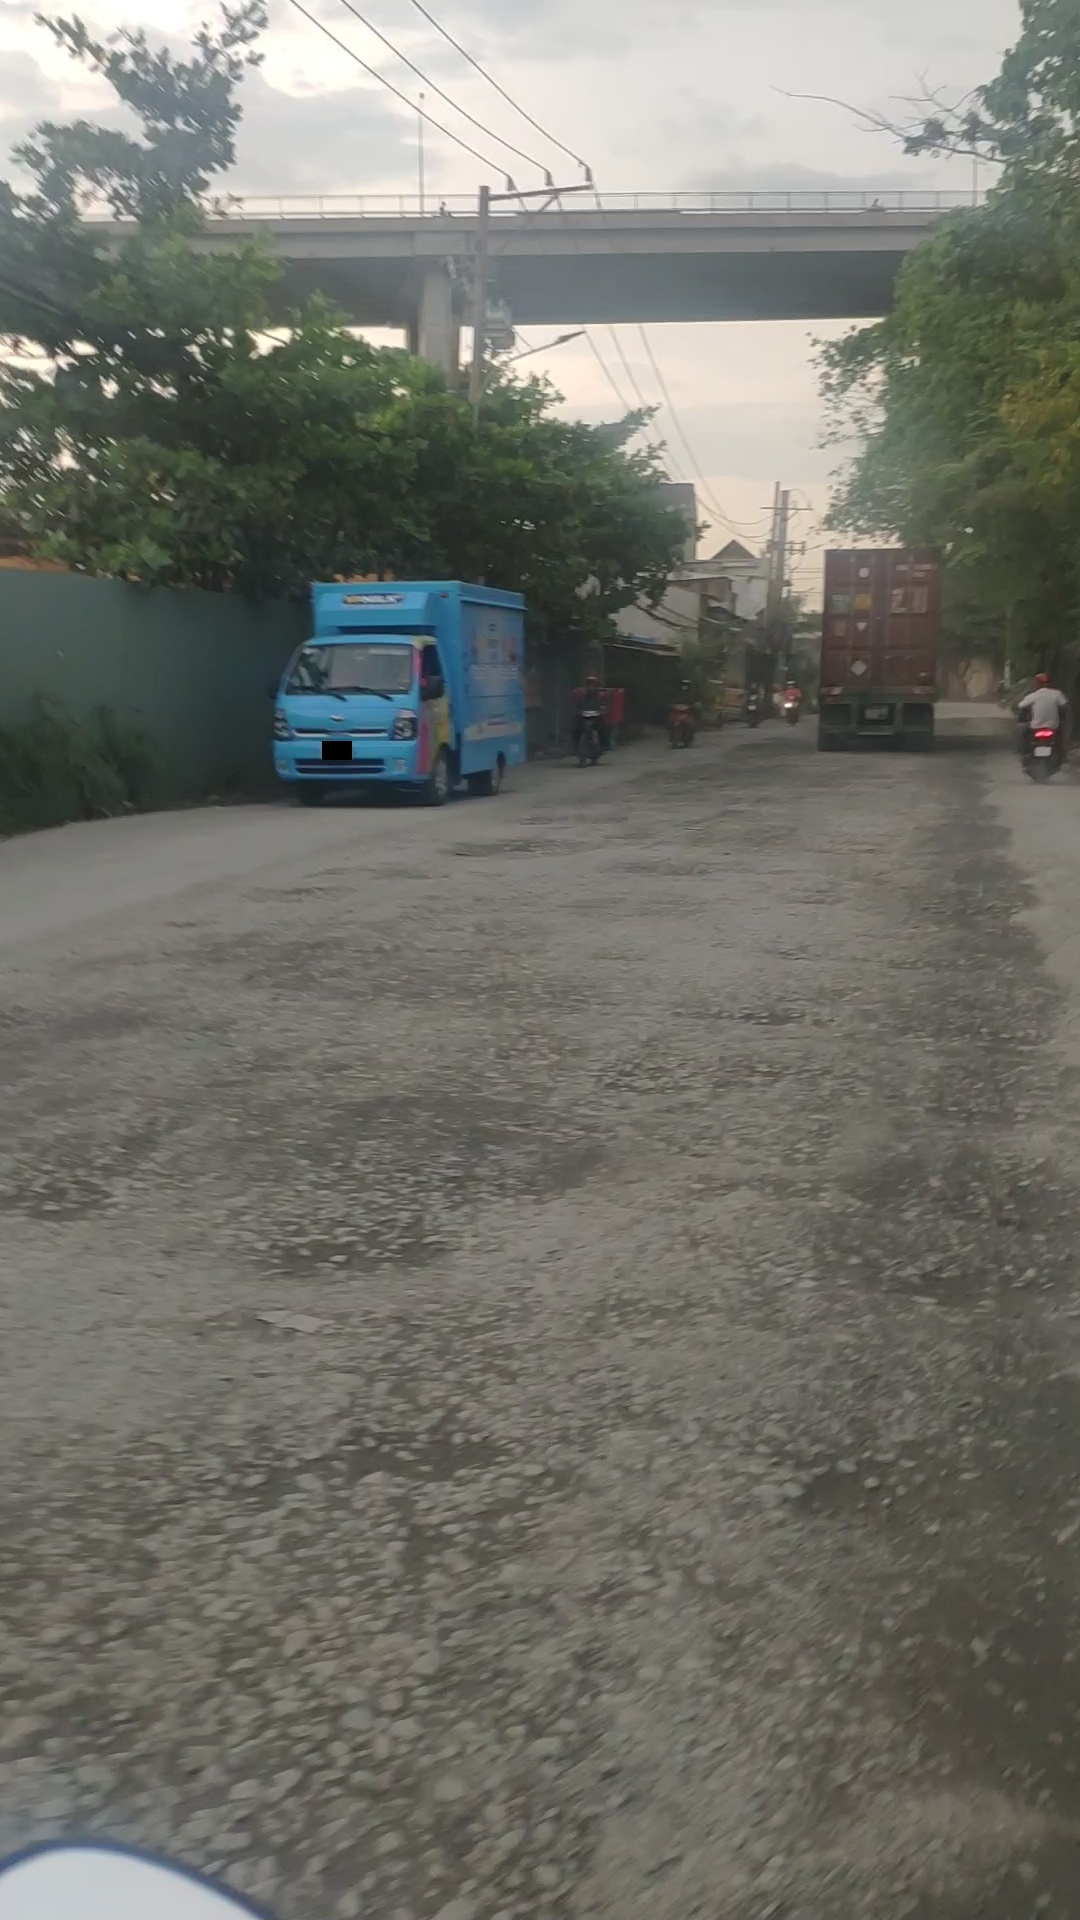hole: (208, 1087, 622, 1275), (808, 1139, 1080, 1317), (438, 831, 600, 865), (231, 876, 353, 911), (593, 856, 735, 884), (723, 731, 816, 757), (622, 767, 713, 793)
